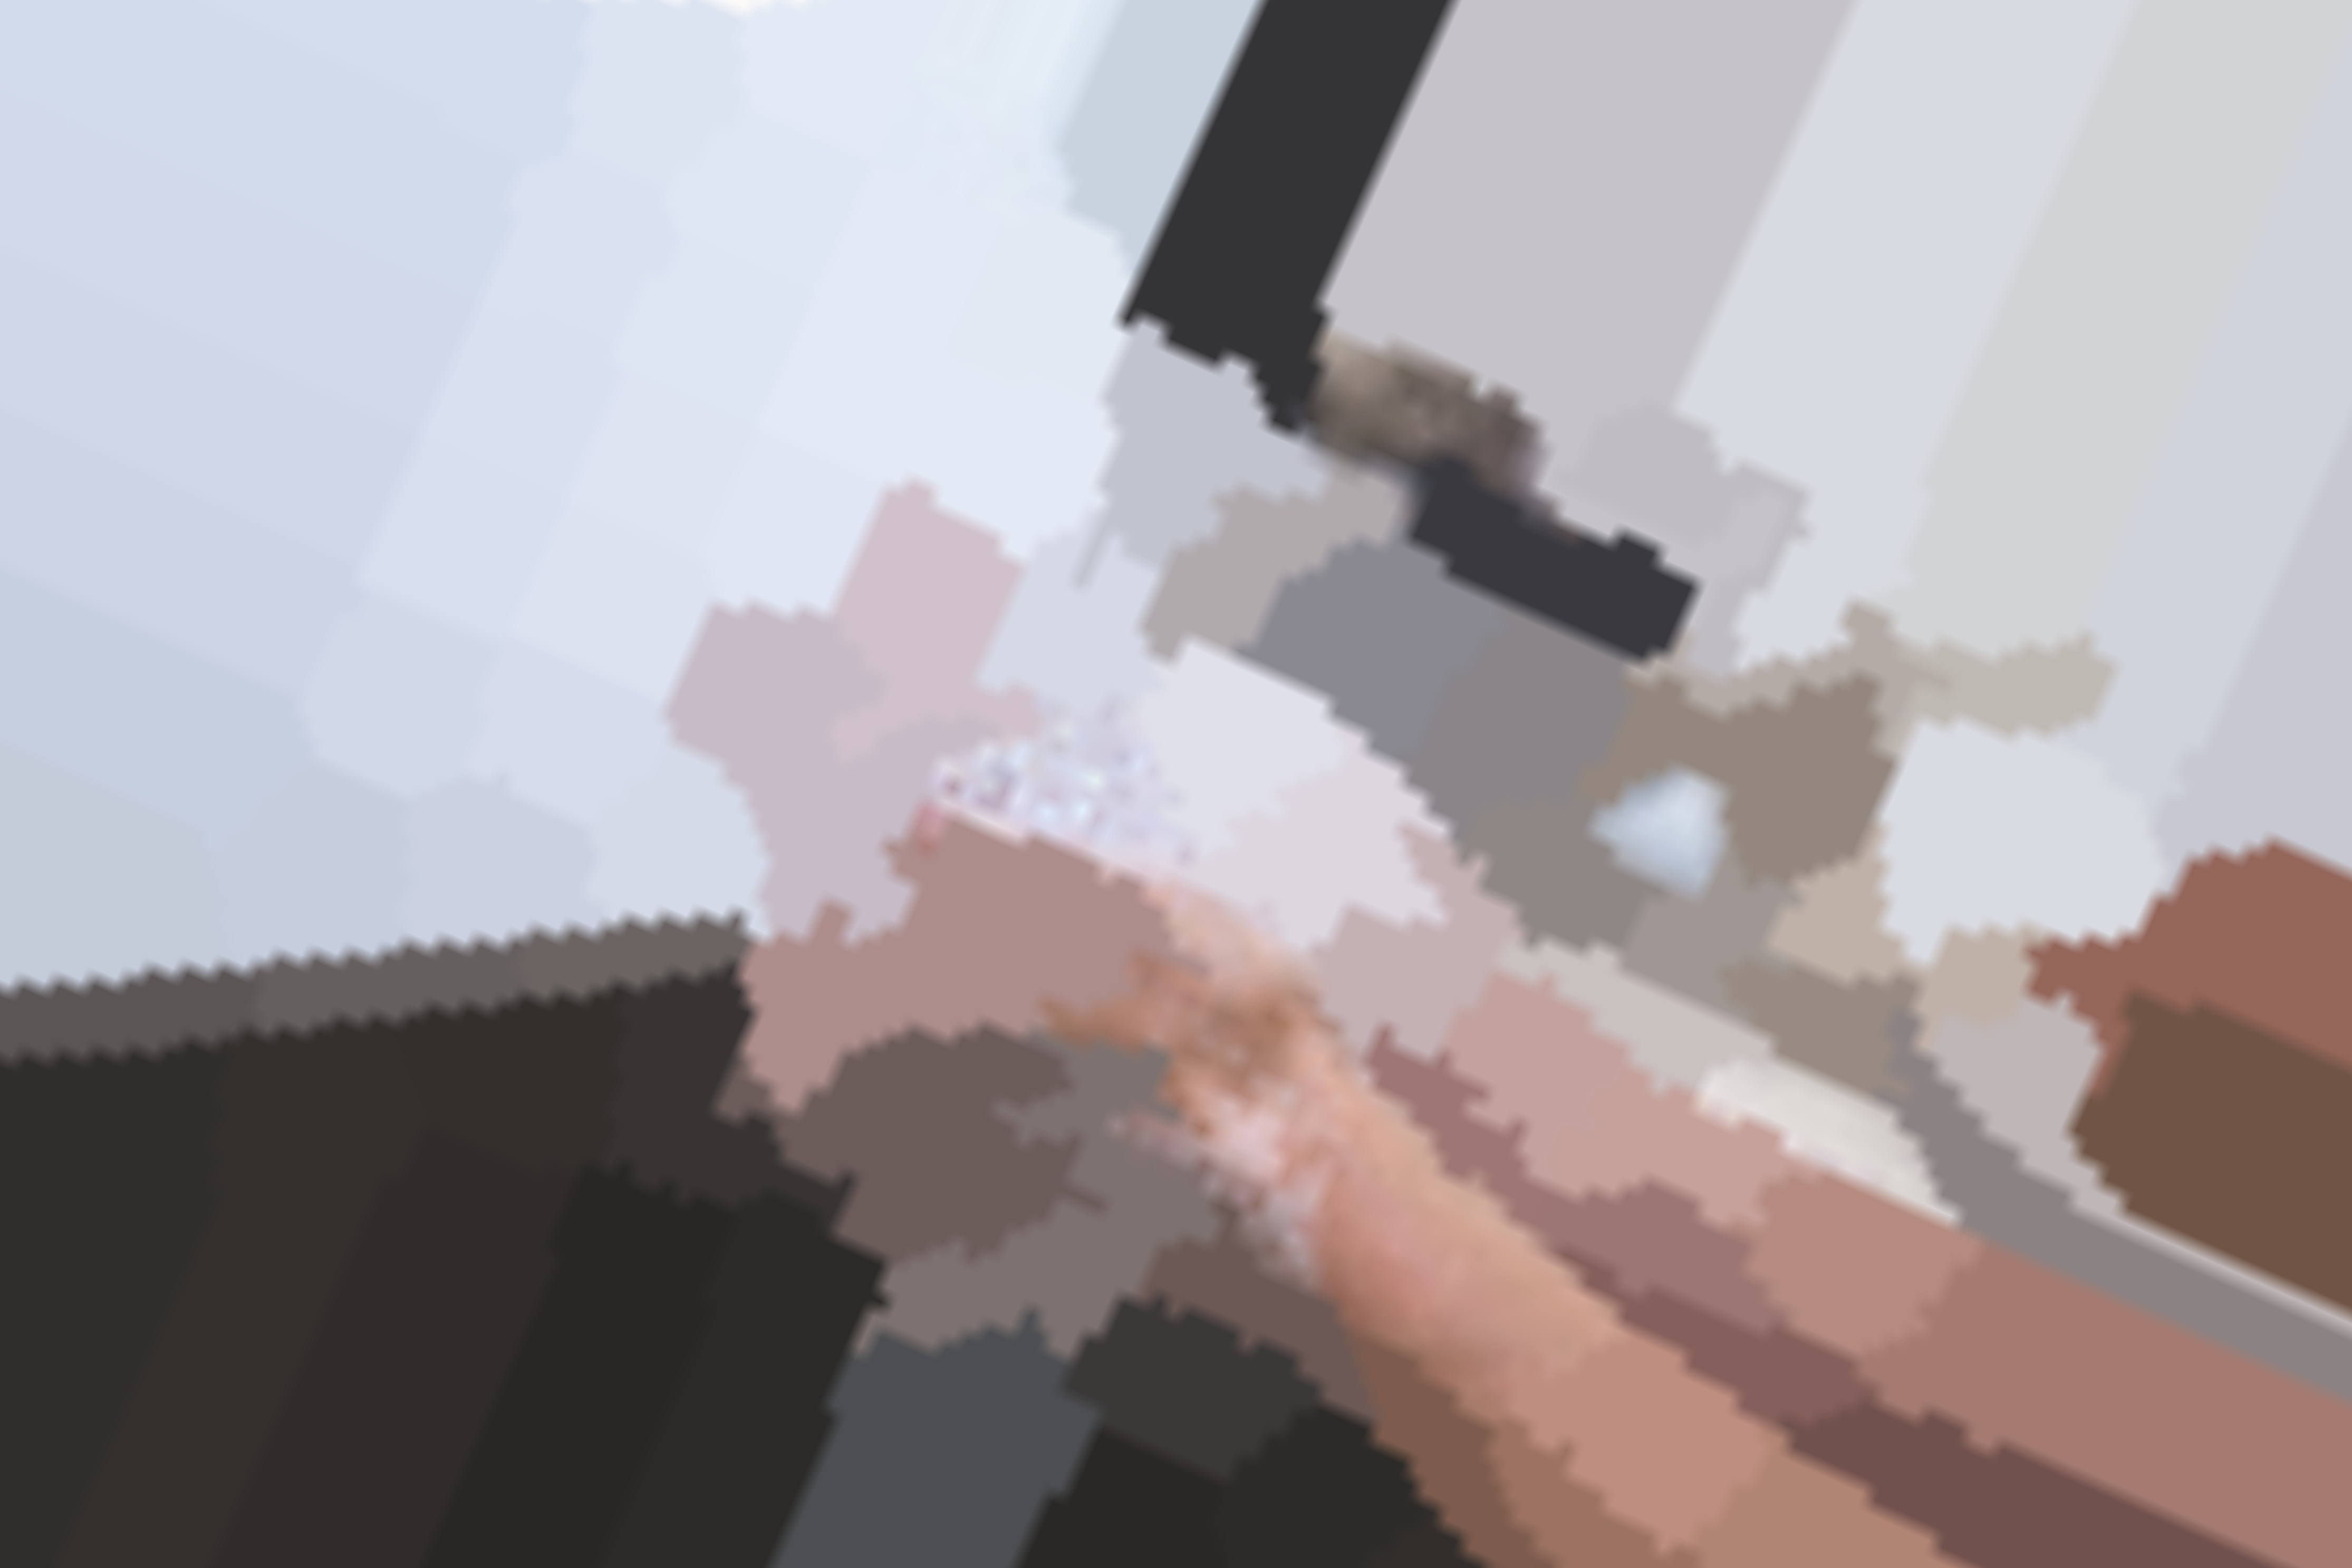washing hand: (336, 0, 1934, 1538)
